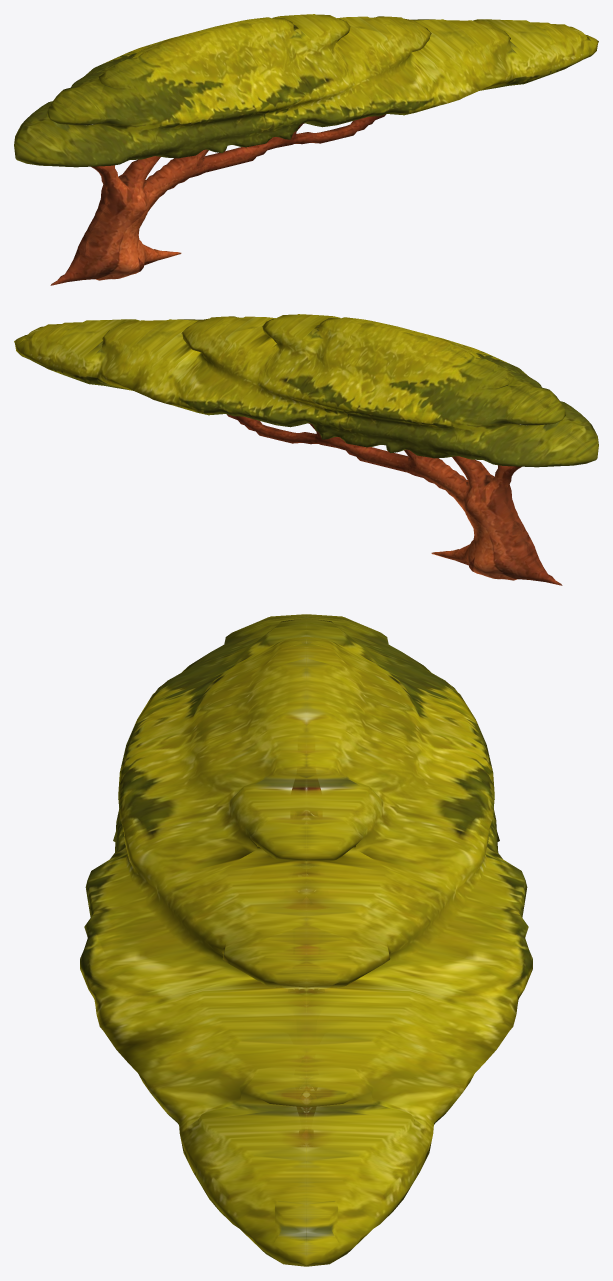
Rendered from 24_trees_c_r00_c00.glb.
3 renders of one model, top to bottom at view 1: azimuth 30°, elevation 25°; view 2: azimuth 150°, elevation 25°; view 3: azimuth 270°, elevation 25°, orthographic. The views are drawn at different scales.
Parts seen in each view (by area): view 1: 24_trees_c_r00_c00; view 2: 24_trees_c_r00_c00; view 3: 24_trees_c_r00_c00.
Boxes of the visible parts, x1=… form: 24_trees_c_r00_c00: x1=14, y1=14, x2=598, y2=285; 24_trees_c_r00_c00: x1=14, y1=314, x2=598, y2=585; 24_trees_c_r00_c00: x1=80, y1=614, x2=532, y2=1266.
Bounding box in the file's own units: 10.05 × 3.57 × 3.38.
1 material, 1 textured.
